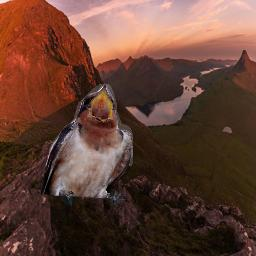Swallow: (41, 84, 133, 206)
